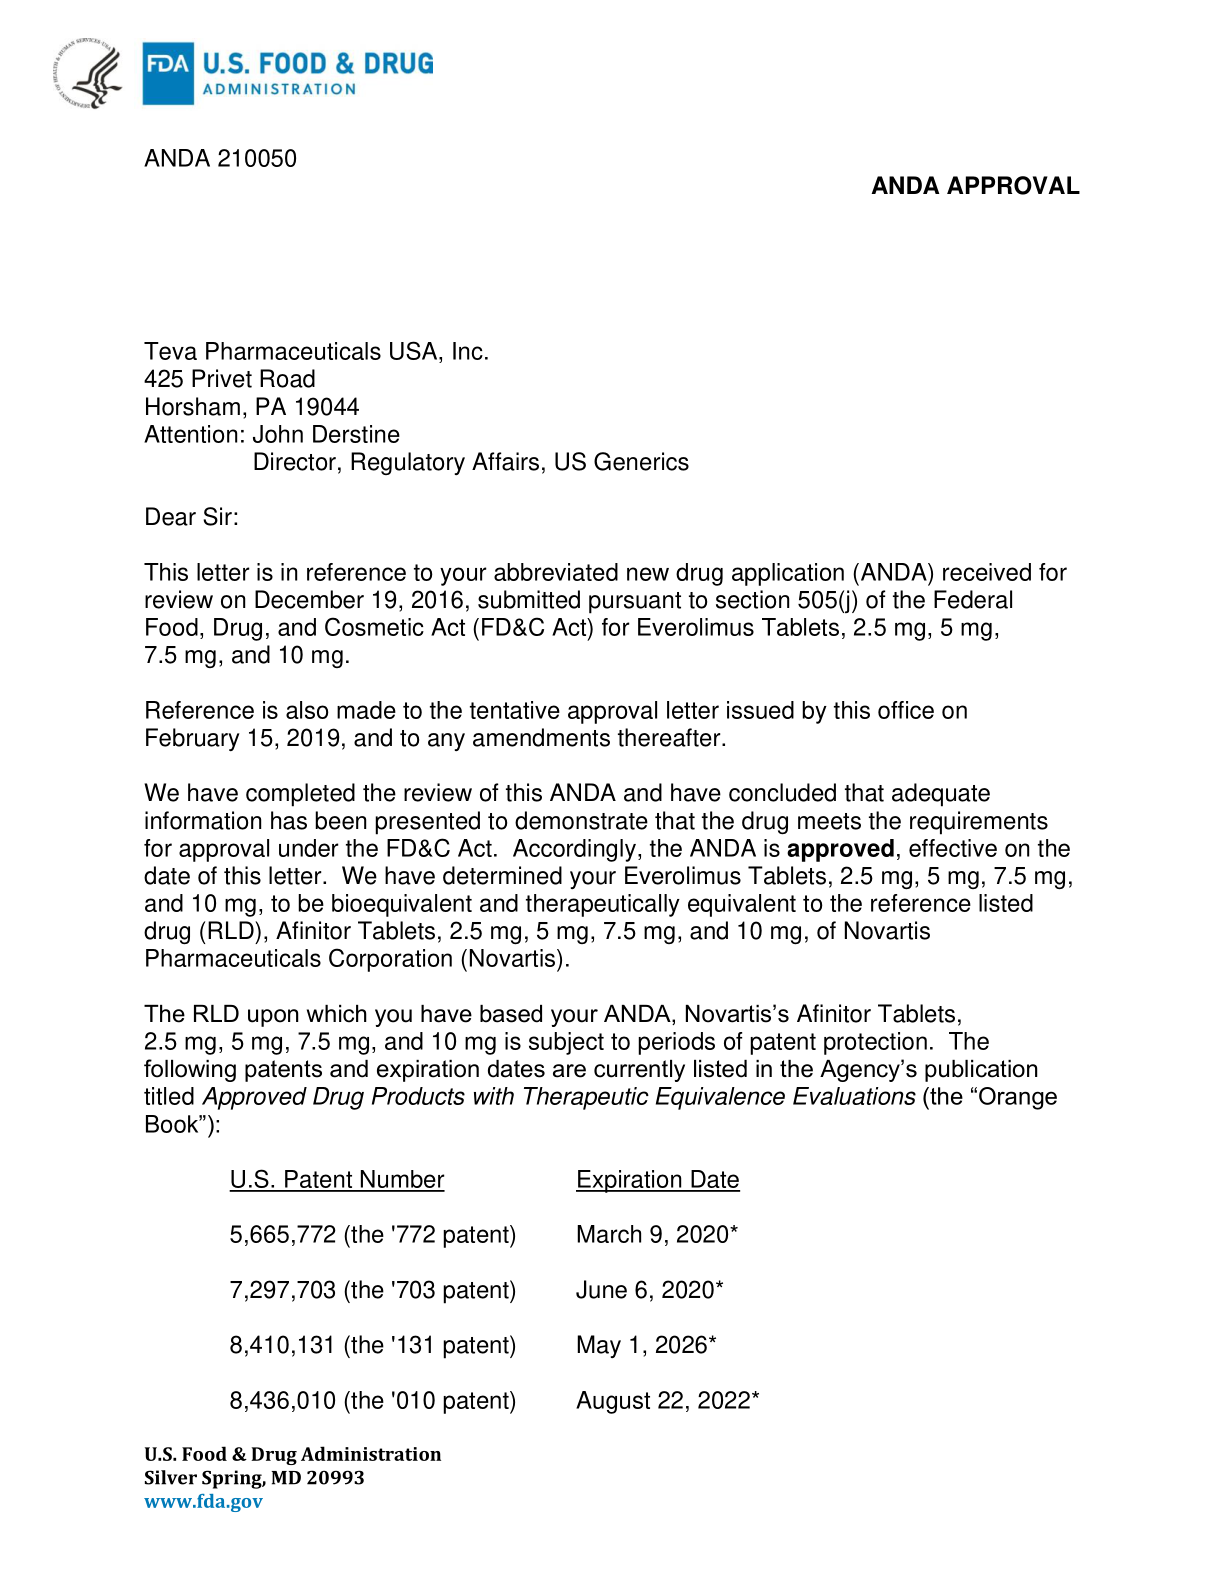nolines: (228, 1167, 759, 1413)
